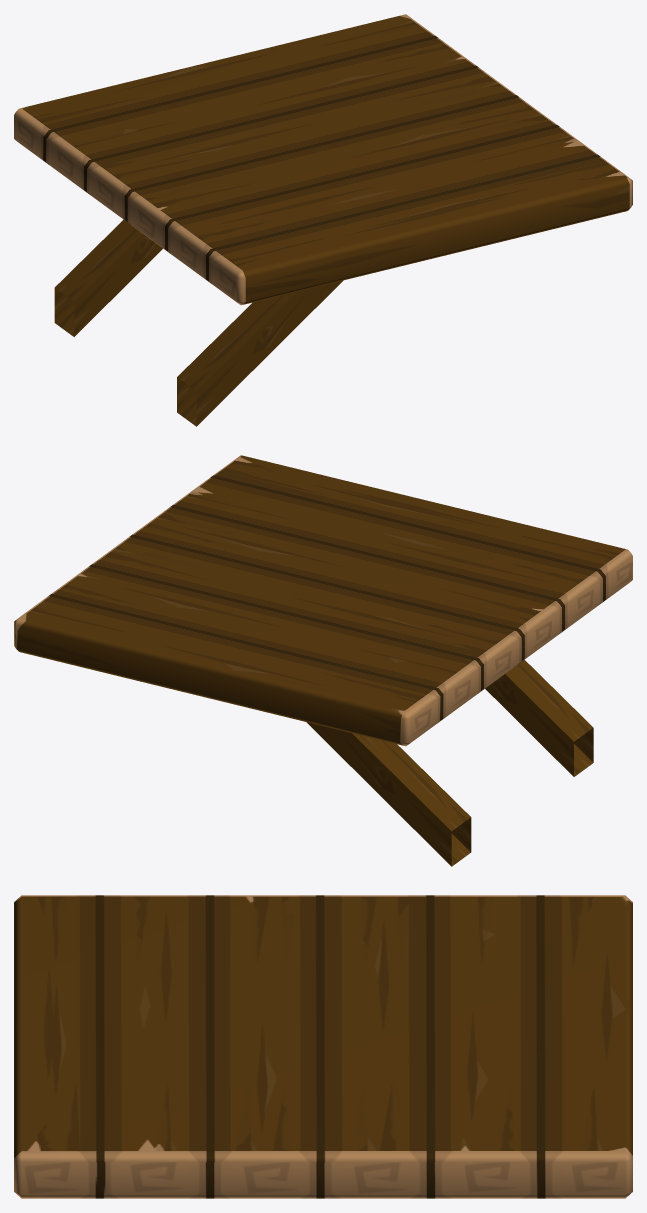
The model's file is mod_med_platform_b_01.fbx.
3 renders of one model, top to bottom at view 1: azimuth 30°, elevation 25°; view 2: azimuth 150°, elevation 25°; view 3: azimuth 270°, elevation 25°, orthographic. The views are drawn at different scales.
Parts seen in each view (by area): view 1: polySurface1; view 2: polySurface1; view 3: polySurface1.
Part boxes in pixels (x1=…): polySurface1: x1=14, y1=14, x2=632, y2=426; polySurface1: x1=14, y1=455, x2=632, y2=866; polySurface1: x1=14, y1=895, x2=632, y2=1198.
Bounding box in the file's own units: 11.74 × 5.18 × 11.66.
